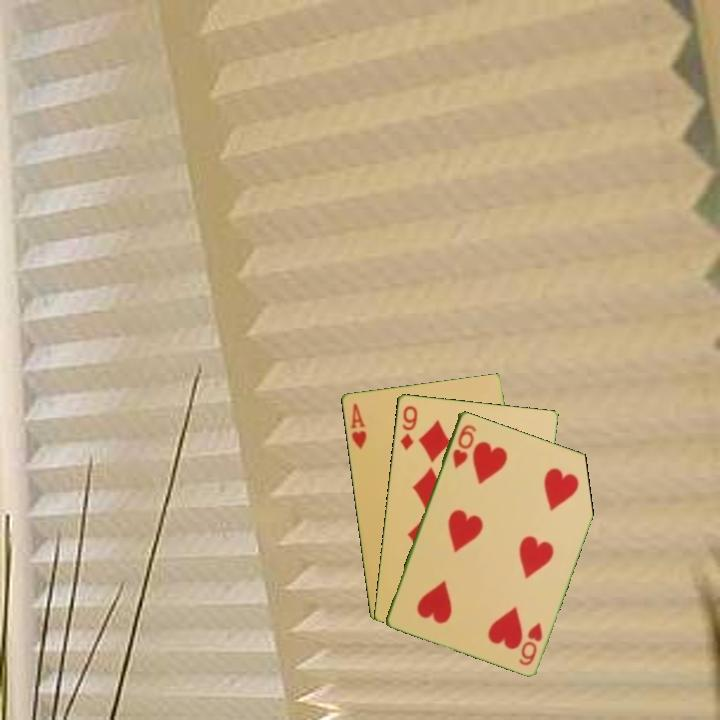6h: (449, 420, 479, 471), (515, 618, 545, 668)
9d: (396, 402, 420, 453)
Ah: (347, 400, 369, 452)
